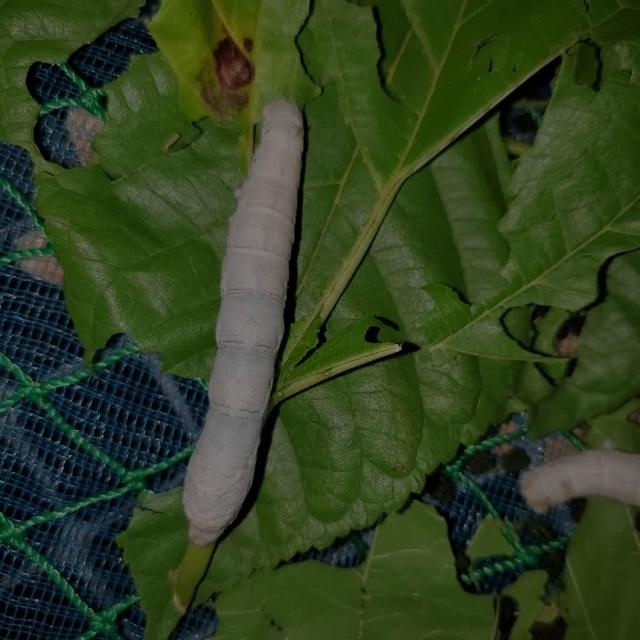Healthy: (138, 68, 353, 558)
